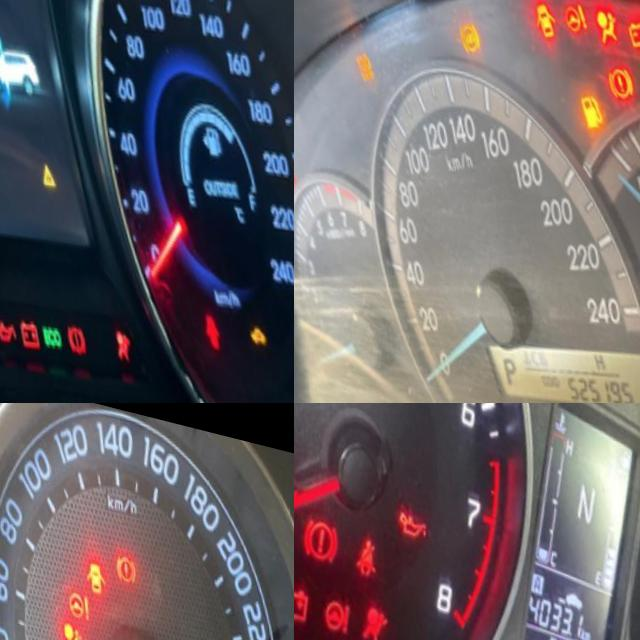Central Warning lamp: (32, 137, 54, 177)
Doors: (193, 279, 217, 331), (528, 0, 561, 27)
Electronic Power Steering: (61, 564, 89, 608)
Low fuel level: (573, 68, 607, 115)
security: (239, 287, 261, 323)
